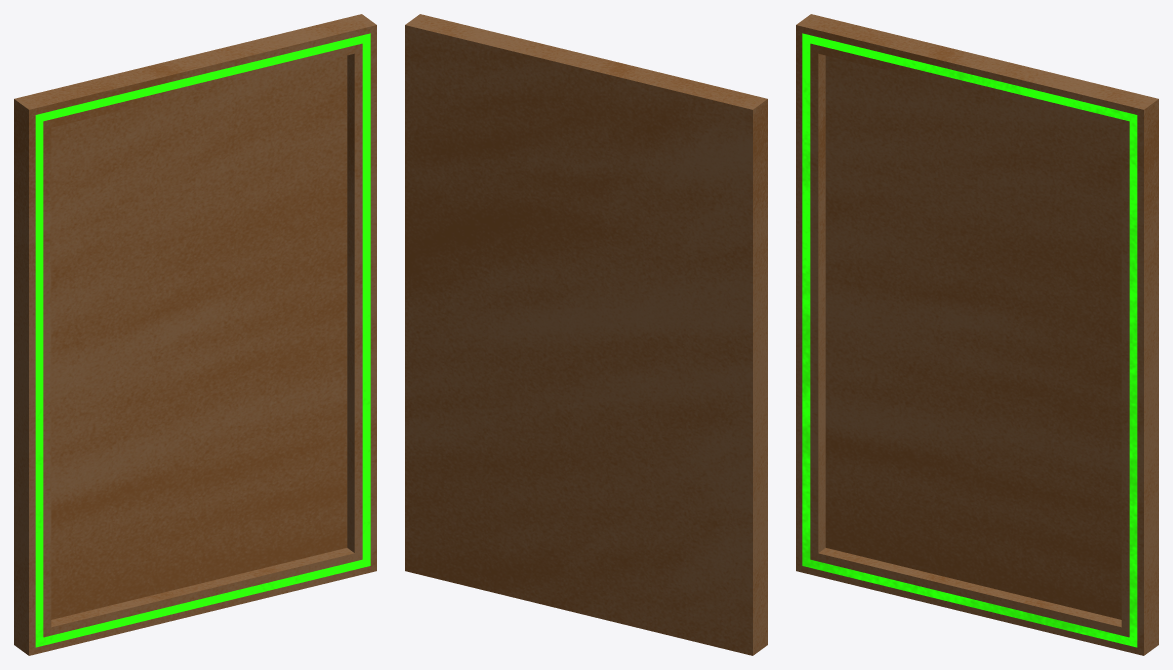
File: CartaVerde.fbx
3 views of the same model, side by side, from view 1: azimuth 30°, elevation 25°; view 2: azimuth 150°, elevation 25°; view 3: azimuth 330°, elevation 25° (orthographic).
Parts seen in each view (by area): view 1: CartaVerde; view 2: CartaVerde; view 3: CartaVerde.
Part boxes in pixels (bbox=[...]): CartaVerde: bbox=[14, 14, 376, 655]; CartaVerde: bbox=[405, 14, 767, 655]; CartaVerde: bbox=[796, 14, 1158, 655].
Size of the model in its own units: 200 by 300 by 15.
